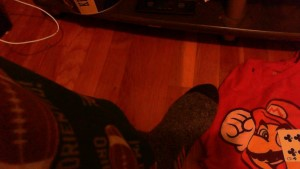NineOfClubs: (278, 128, 300, 167)
